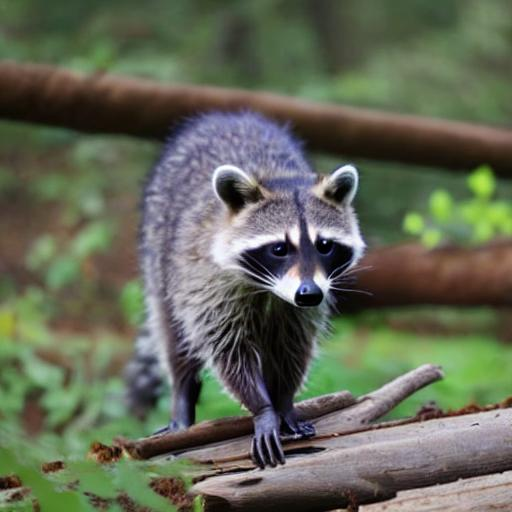raccoon: (123, 96, 366, 420)
